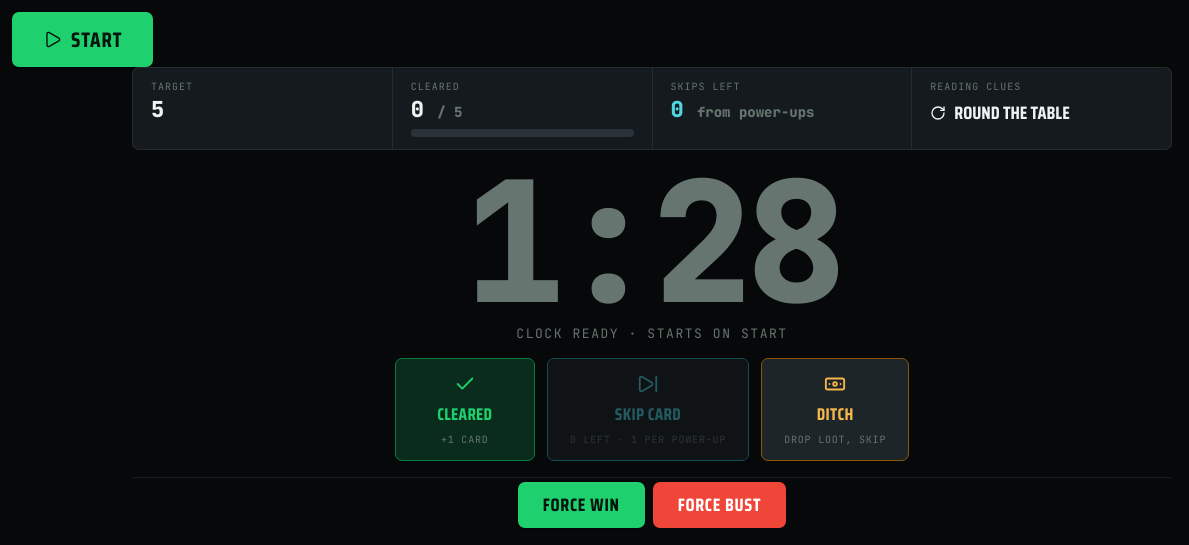
it: Getaway ARMED/ACTIVE states › clock-sub shows "Ticking" in ACTIVE state
Click the button with test id "btn-toggle-timer" at x=83, y=40, box [12,12,153,67]
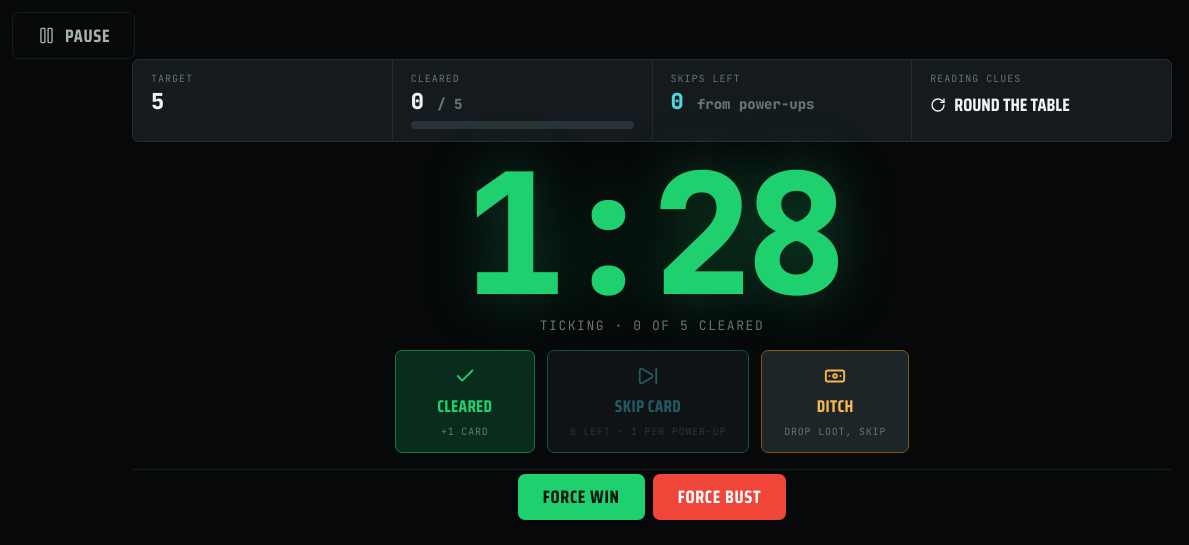
Check: the text with test id "clock-sub" shows "Ticking", box [540,317,764,334]
